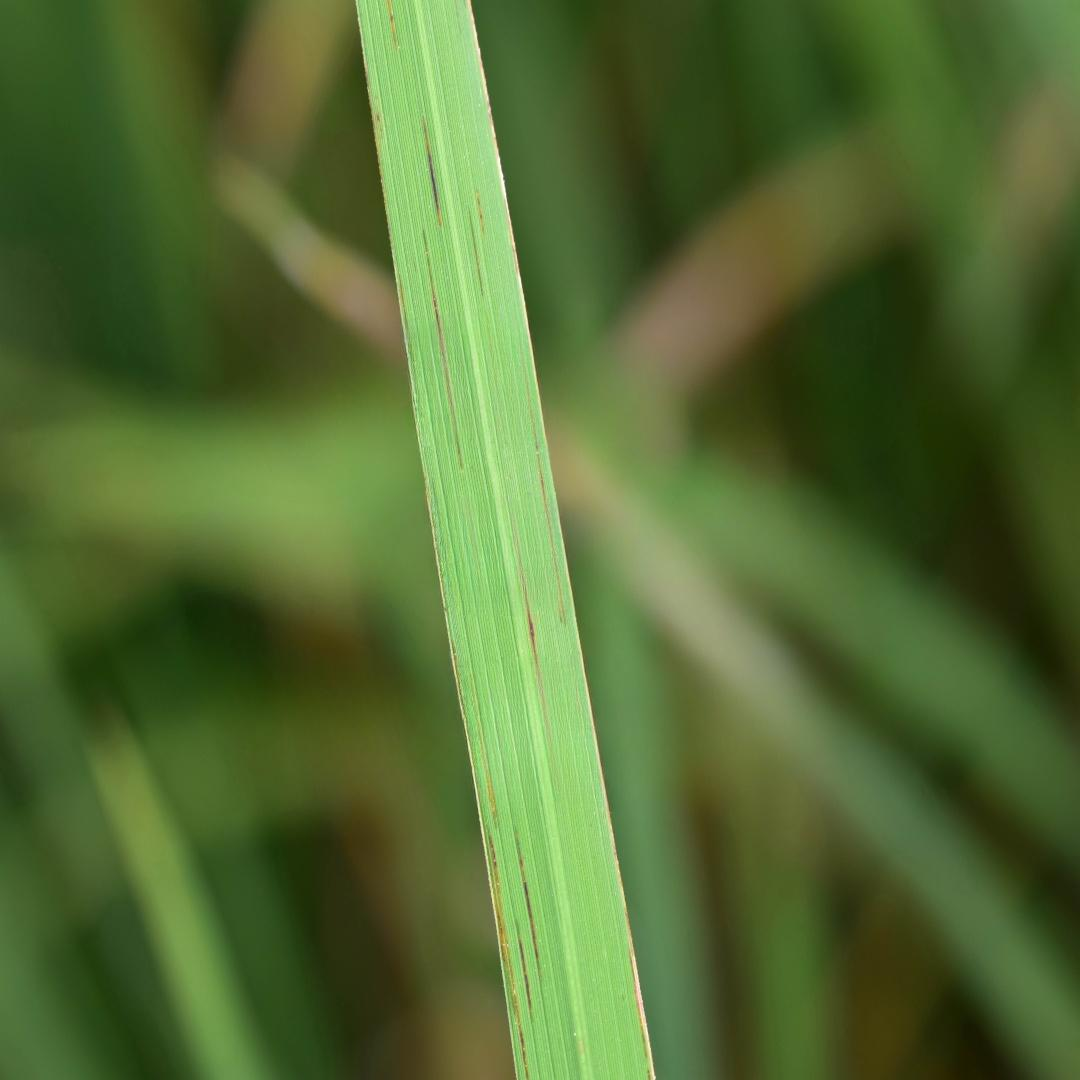BLS: (467, 0, 533, 360), (487, 821, 527, 1079), (422, 224, 463, 473), (537, 453, 566, 627), (363, 55, 387, 216), (630, 941, 655, 1079), (515, 826, 539, 959), (398, 274, 419, 402), (512, 908, 533, 1023), (422, 118, 440, 224), (468, 206, 485, 298), (481, 756, 500, 830), (526, 591, 539, 667), (387, 0, 398, 50), (475, 191, 485, 234)
